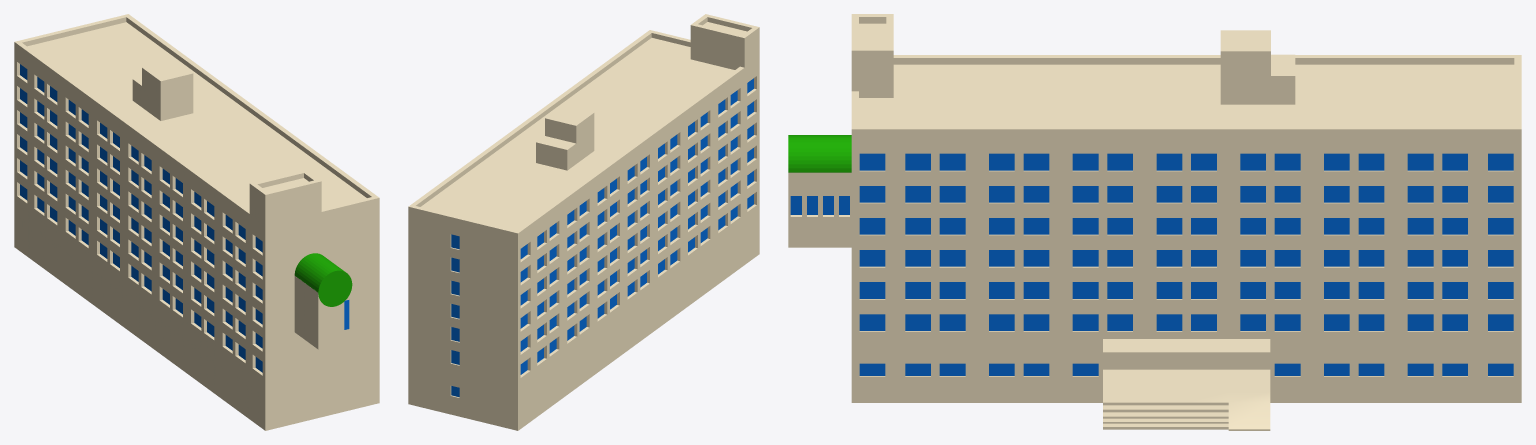
Rendered from 제3공학관.fbx.
3 renders of one model, left to right at view 1: azimuth 30°, elevation 25°; view 2: azimuth 150°, elevation 25°; view 3: azimuth 270°, elevation 25°, orthographic. The views are drawn at different scales.
Visible parts, largest first — view 1: Cube_1, Cube_140, Cube_5, Cube_30, Tube; view 2: Cube_1, Cube_140, Cube_5, Cube_4; view 3: Cube_1, Cube_62, Cube_5, Cube_30, Tube, Cube_63, Cube_64, Cube_126.
Boxes of the visible parts, bbox=[...] form: Cube_1: bbox=[14, 14, 379, 430]; Cube_140: bbox=[20, 64, 262, 372]; Cube_5: bbox=[132, 59, 193, 120]; Cube_30: bbox=[294, 276, 352, 349]; Tube: bbox=[294, 253, 352, 306]; Cube_1: bbox=[408, 14, 759, 430]; Cube_140: bbox=[520, 78, 753, 374]; Cube_5: bbox=[536, 105, 594, 170]; Cube_4: bbox=[451, 234, 459, 397]; Cube_1: bbox=[851, 14, 1521, 430]; Cube_62: bbox=[859, 153, 1513, 330]; Cube_5: bbox=[1220, 30, 1295, 104]; Cube_30: bbox=[788, 172, 851, 247]; Tube: bbox=[788, 135, 851, 172]; Cube_63: bbox=[859, 363, 1098, 375]; Cube_64: bbox=[1274, 363, 1513, 375]; Cube_126: bbox=[790, 196, 849, 214].
Bounding box in the file's own units: 330 × 483 × 1002.
